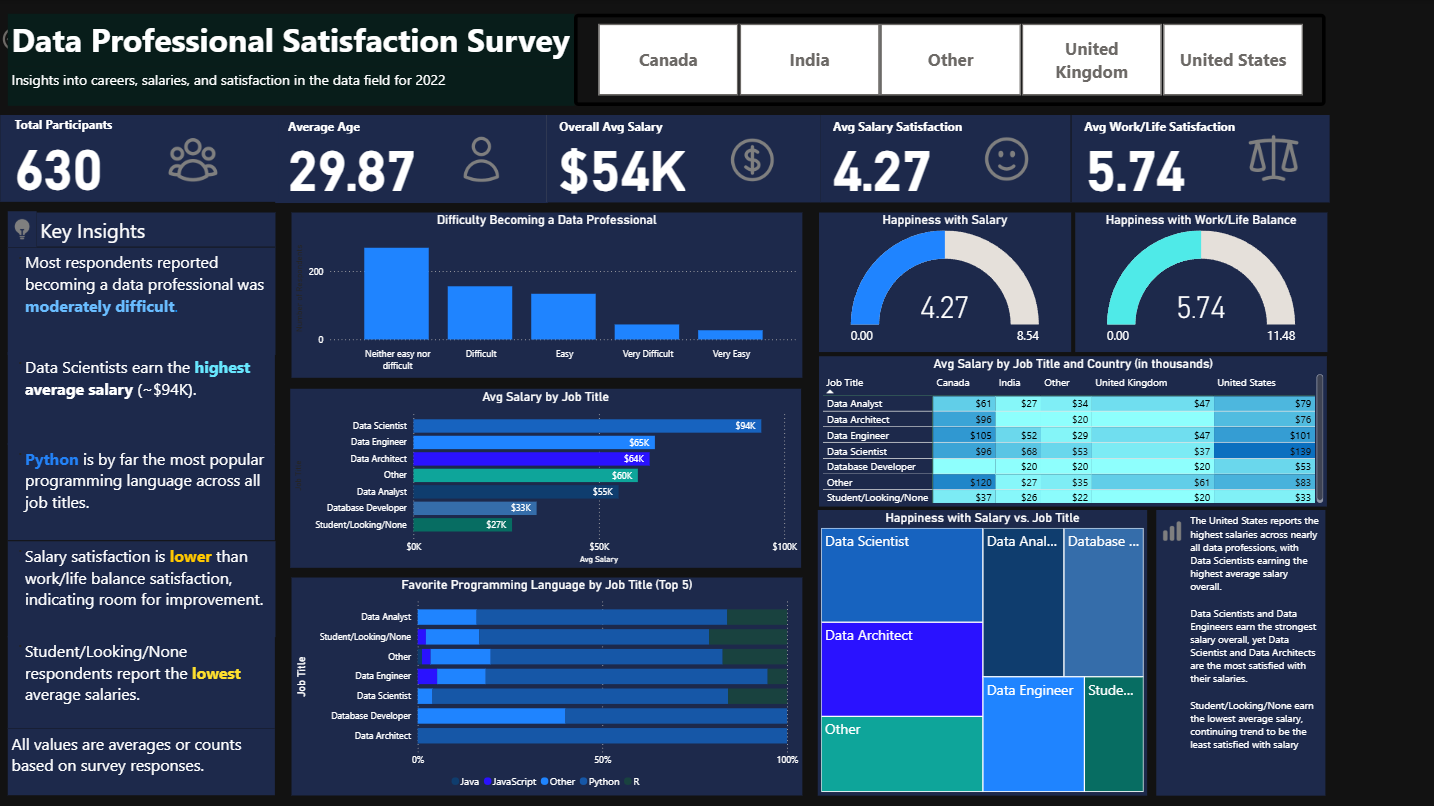

Layout of this report page (visuals, bound fields, positions):
{"tool":"powerbi","page":{"name":"Overall","canvas":[1920,1080],"ordinal":0},"visuals":[{"type":"cardVisual","fields":{"Data":["Data Professional Survey.Total Participants"]},"box":[1.6,153.9,371,115.8],"z":0,"group":"g6"},{"type":"group","id":"g1","title":"Group 3","box":[369.2,153.9,363.7,117.6],"z":0},{"type":"cardVisual","fields":{"Data":["Data Professional Survey.Average Age"]},"box":[369.2,153.9,363.7,117.6],"z":1000,"group":"g1"},{"type":"image","box":[178.2,170.2,161,84.5],"z":1000,"group":"g6"},{"type":"gauge","fields":{"Y":["Data Professional Survey.Avg Salary Satisfaction"]},"box":[1094.8,284.1,336.6,186.4],"z":1000},{"type":"group","id":"g2","title":"Group 4","box":[732.1,153.9,365.6,117.1],"z":2000},{"type":"cardVisual","fields":{"Data":["Data Professional Survey.Overall Avg Salary"]},"box":[732.1,153.9,365.6,117.1],"z":2000,"group":"g2"},{"type":"gauge","fields":{"Y":["Data Professional Survey.Avg WorkLife Satisfaction"]},"box":[1436.9,284.1,336.6,186.4],"z":3000},{"type":"group","id":"g3","title":"Group 5","box":[1097.7,153.9,334.5,117.1],"z":4000},{"type":"actionButton","box":[0,31,100,41],"z":5000},{"type":"cardVisual","fields":{"Data":["Data Professional Survey.Avg Salary Satisfaction"]},"box":[1097.7,153.9,334.5,117.1],"z":6000,"group":"g3"},{"type":"group","id":"g4","title":"Group 6","box":[1432.2,153.9,344.9,117.1],"z":6000},{"type":"pivotTable","title":"Avg Salary by Job Title and Country (in thousands)","fields":{"Rows":["Data Professional Survey.Job Title"],"Columns":["Data Professional Survey.Country"],"Values":["Avg(Data Professional Survey.Average Salary)"]},"box":[1094.8,475.9,678.6,200.9],"z":7000},{"type":"treemap","title":"Happiness with Salary vs. Job Title","fields":{"Values":["Avg(Data Professional Survey.Q6 - How Happy are you in your Current Position with the following? (Salary))"],"Group":["Data Professional Survey.Job Title"]},"box":[1093.2,680.5,440.2,381.5],"z":8000},{"type":"cardVisual","fields":{"Data":["Data Professional Survey.Avg WorkLife Satisfaction"]},"box":[1432.2,153.9,344.9,117.1],"z":9000,"group":"g4"},{"type":"textbox","box":[49.5,284.3,319.2,45.9],"z":9000},{"type":"barChart","title":"Avg Salary by Job Title","fields":{"Category":["Data Professional Survey.Job Title"],"Y":["Data Professional Survey.Overall Avg Salary"],"Series":["Data Professional Survey.Job Title"]},"box":[389.1,519.4,682.2,238.9],"z":10000},{"type":"clusteredColumnChart","title":"Difficulty Becoming a Data Professional","fields":{"Category":["Data Professional Survey.Q7 - How difficult was it for you to break into Data?"],"Y":["CountNonNull(Data Professional Survey.Unique ID)"]},"box":[390.9,284.1,682.2,220.8],"z":11000},{"type":"hundredPercentStackedBarChart","title":"Favorite Programming Language by Job Title (Top 5)","fields":{"Series":["Data Professional Survey.Q5 - Favorite Programming Language.1"],"Category":["Data Professional Survey.Job Title"],"Y":["CountNonNull(Data Professional Survey.Unique ID)"]},"box":[390.9,770.9,682.2,291.4],"z":12000},{"type":"textbox","box":[10.9,850.5,356.5,123.1],"z":13000},{"type":"textbox","box":[10.9,470.5,356.5,123.1],"z":14000},{"type":"textbox","box":[1546.3,680.5,225.6,381.5],"z":14000,"group":"g5"},{"type":"textbox","box":[10.9,18.1,756.4,70.6],"z":15000},{"type":"textbox","box":[10.9,88.7,756.4,52.5],"z":16000},{"type":"slicer","fields":{"Values":["Data Professional Survey.Country"]},"box":[767.3,18.1,1004.4,123.1],"z":17000},{"type":"textbox","box":[11,330.2,357.7,143.1],"z":18000},{"type":"textbox","box":[10.9,593.6,356.5,128.5],"z":19000},{"type":"textbox","box":[11,722.7,357.7,128.4],"z":20000},{"type":"textbox","box":[10.9,973.6,356.5,88.7],"z":21000},{"type":"image","box":[11,282.5,38.5,47.7],"z":22000},{"type":"group","id":"g5","title":"Group 1","box":[1546.3,680.5,225.6,381.5],"z":23000},{"type":"group","id":"g6","title":"Group 2","box":[1.6,153.9,371,115.8],"z":24000},{"type":"image","box":[583.4,174.7,123.4,79],"z":25000,"group":"g1"},{"type":"image","box":[937.5,173.2,139.4,79.9],"z":26000,"group":"g2"},{"type":"image","box":[1286.1,171.9,121.1,81.3],"z":27000,"group":"g3"},{"type":"image","box":[1641.9,169.2,119.2,85.3],"z":28000,"group":"g4"},{"type":"image","box":[1546.3,685.8,42.2,46.4],"z":30000,"group":"g5"}]}

Visuals, with their boxes in screenshot pixels (x1, y1, x2, y2), scaled from the page's 1920x1080 canvas onto the 1434x806 screenshot:
cardVisual - Data Professional Survey.Total Participants: box(1, 115, 278, 201)
"Group 3" group: box(276, 115, 547, 203)
cardVisual - Data Professional Survey.Average Age: box(276, 115, 547, 203)
image: box(133, 127, 253, 190)
gauge - Data Professional Survey.Avg Salary Satisfaction: box(818, 212, 1069, 351)
"Group 4" group: box(547, 115, 820, 202)
cardVisual - Data Professional Survey.Overall Avg Salary: box(547, 115, 820, 202)
gauge - Data Professional Survey.Avg WorkLife Satisfaction: box(1073, 212, 1325, 351)
"Group 5" group: box(820, 115, 1070, 202)
actionButton: box(0, 23, 75, 54)
cardVisual - Data Professional Survey.Avg Salary Satisfaction: box(820, 115, 1070, 202)
"Group 6" group: box(1070, 115, 1327, 202)
"Avg Salary by Job Title and Country (in thousands)" pivotTable: box(818, 355, 1325, 505)
"Happiness with Salary vs. Job Title" treemap: box(816, 508, 1145, 793)
cardVisual - Data Professional Survey.Avg WorkLife Satisfaction: box(1070, 115, 1327, 202)
textbox: box(37, 212, 275, 246)
"Avg Salary by Job Title" barChart: box(291, 388, 800, 566)
"Difficulty Becoming a Data Professional" clusteredColumnChart: box(292, 212, 801, 377)
"Favorite Programming Language by Job Title (Top 5)" hundredPercentStackedBarChart: box(292, 575, 801, 793)
textbox: box(8, 635, 274, 727)
textbox: box(8, 351, 274, 443)
textbox: box(1155, 508, 1323, 793)
textbox: box(8, 14, 573, 66)
textbox: box(8, 66, 573, 105)
slicer - Data Professional Survey.Country: box(573, 14, 1323, 105)
textbox: box(8, 246, 275, 353)
textbox: box(8, 443, 274, 539)
textbox: box(8, 539, 275, 635)
textbox: box(8, 727, 274, 793)
image: box(8, 211, 37, 246)
"Group 1" group: box(1155, 508, 1323, 793)
"Group 2" group: box(1, 115, 278, 201)
image: box(436, 130, 528, 189)
image: box(700, 129, 804, 189)
image: box(961, 128, 1051, 189)
image: box(1226, 126, 1315, 190)
image: box(1155, 512, 1186, 546)
